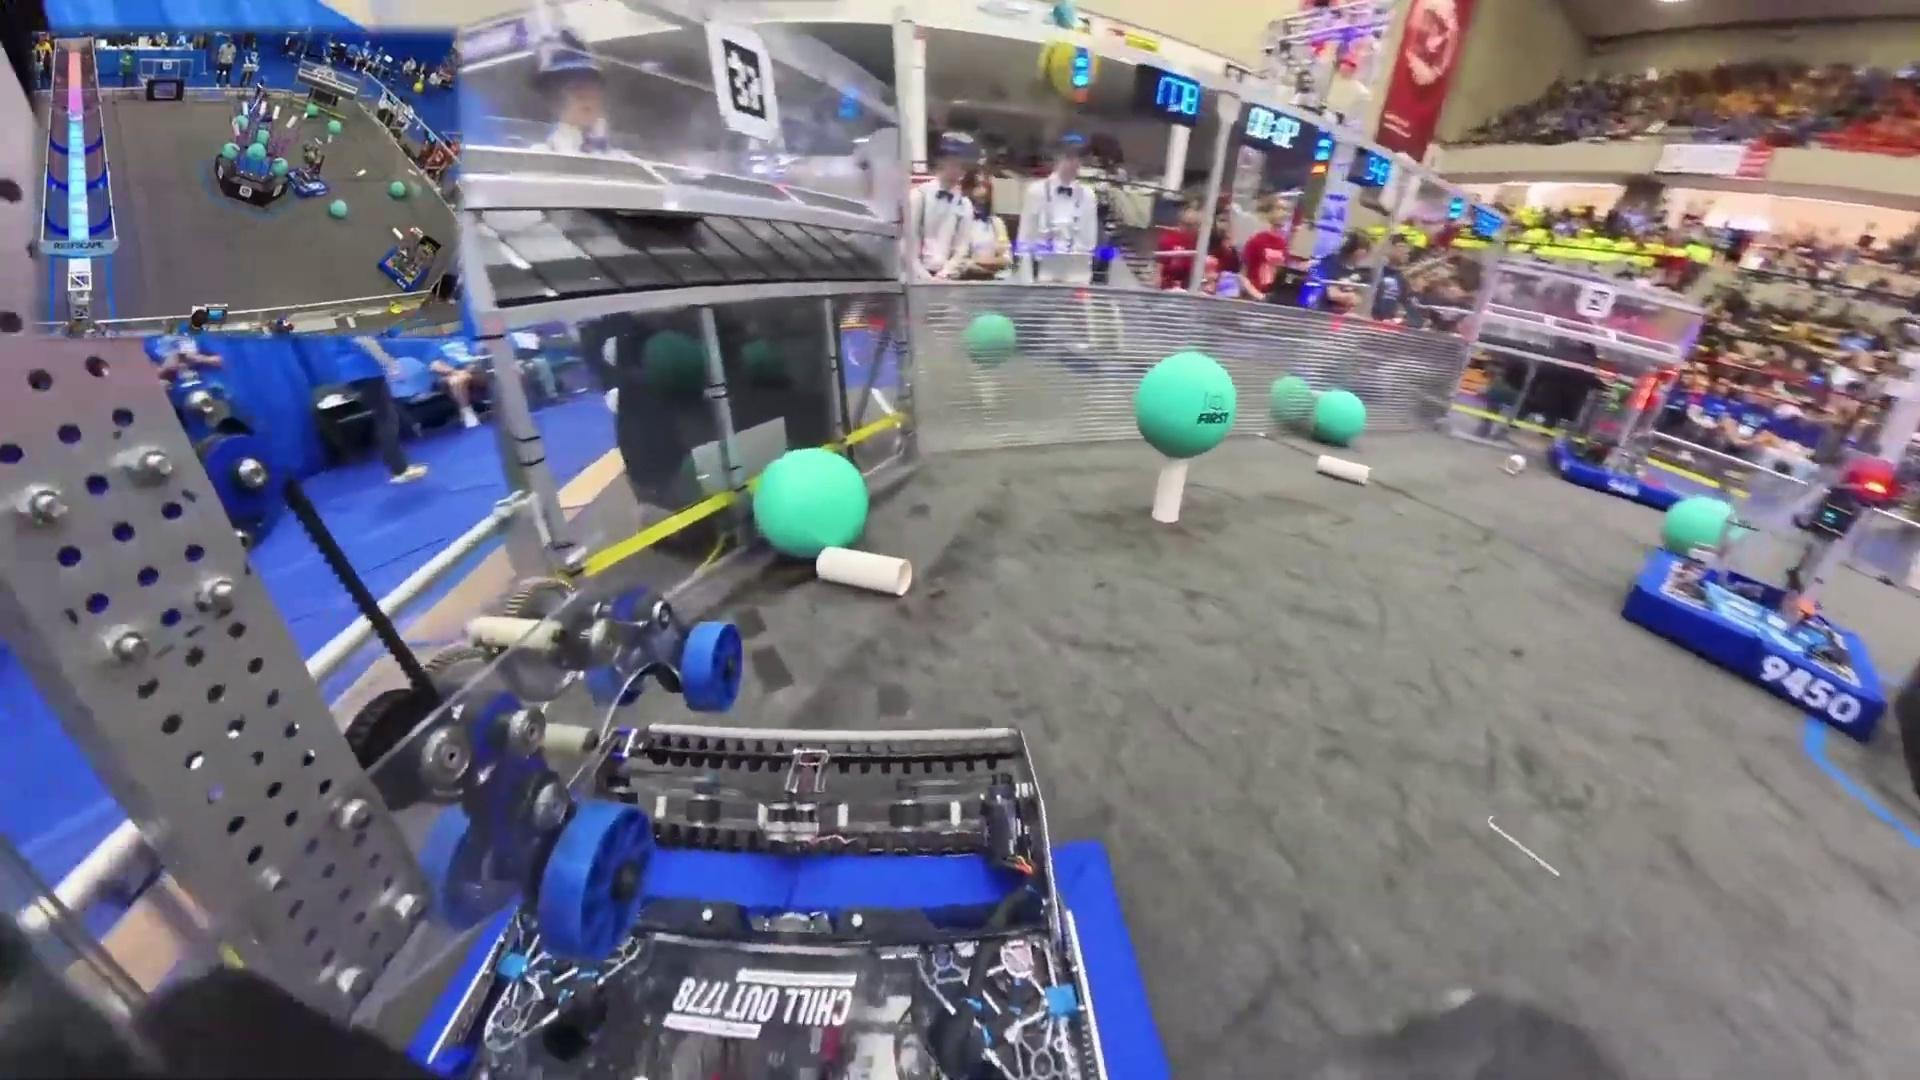robot: (1621, 436, 1894, 748), (1545, 365, 1687, 512), (377, 231, 439, 293), (285, 140, 332, 199)
